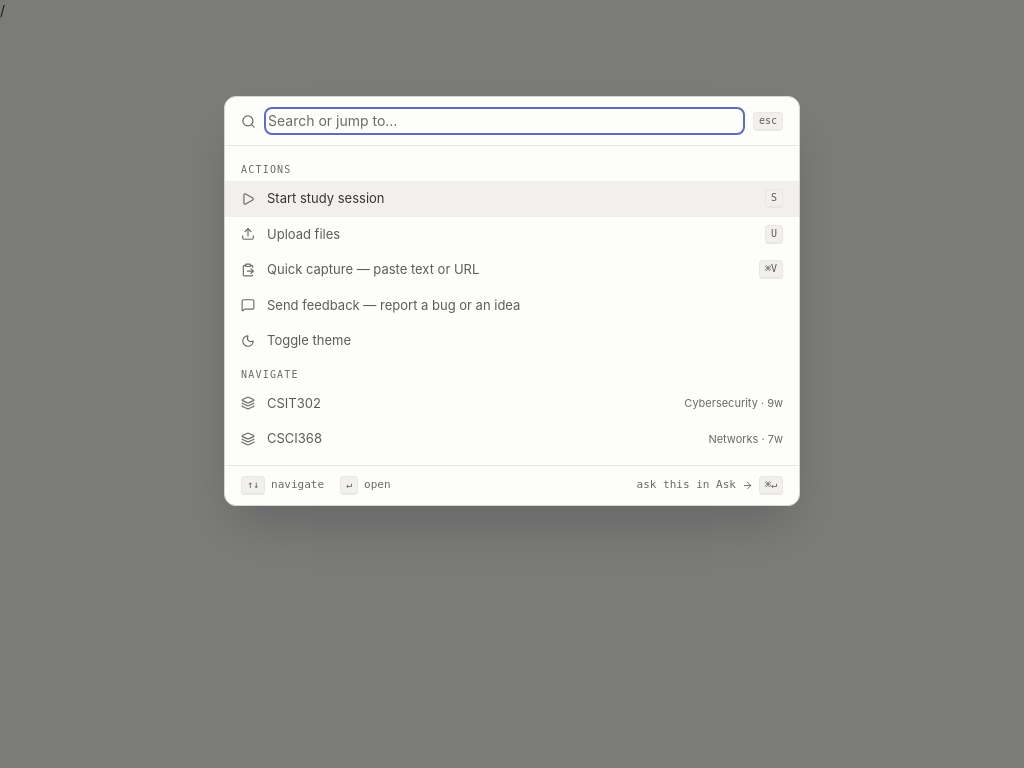
CommandPalette global search › renders results grouped by kind with icons and sub-labels
The image size is (1024, 768).
Type "asl" into the dropdown labelled "Search or jump to…" at x=504, y=121, box x1=268 y1=111 x2=741 y2=131
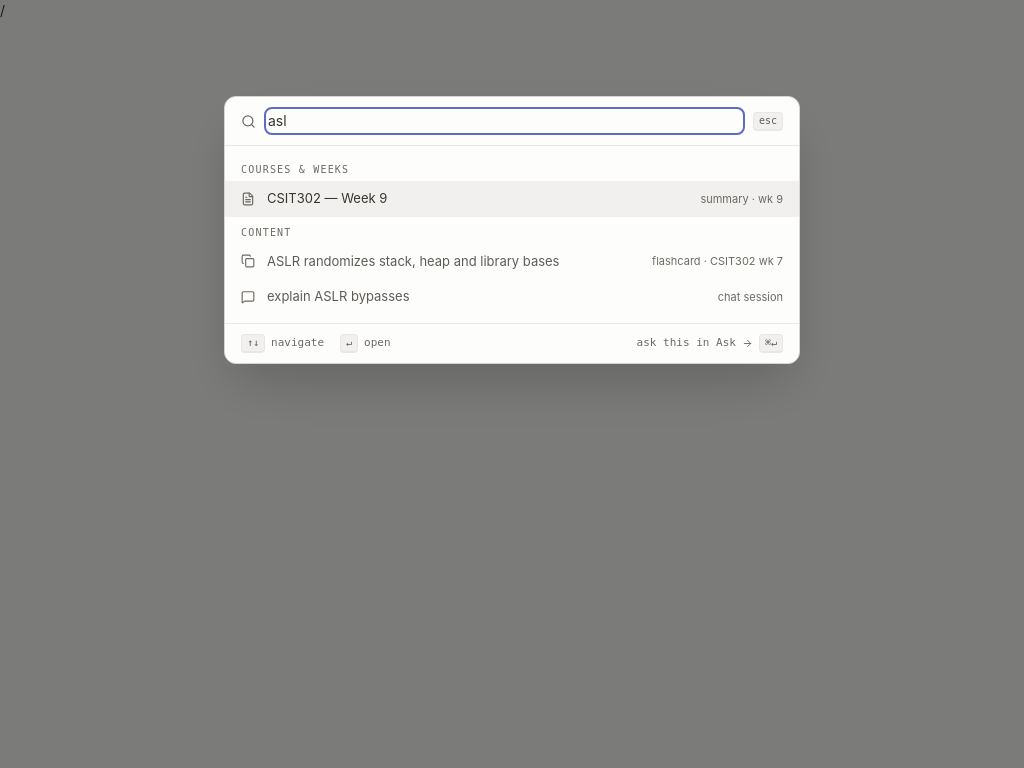
Check: the text "CSIT302 — Week 9" is shown, box x1=267 y1=189 x2=387 y2=208
Check: the text "Courses & weeks" is shown, box x1=241 y1=164 x2=349 y2=175
Check: the text "Content" is shown, box x1=241 y1=226 x2=292 y2=238
